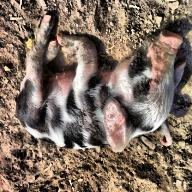boar: (14, 14, 183, 152)
